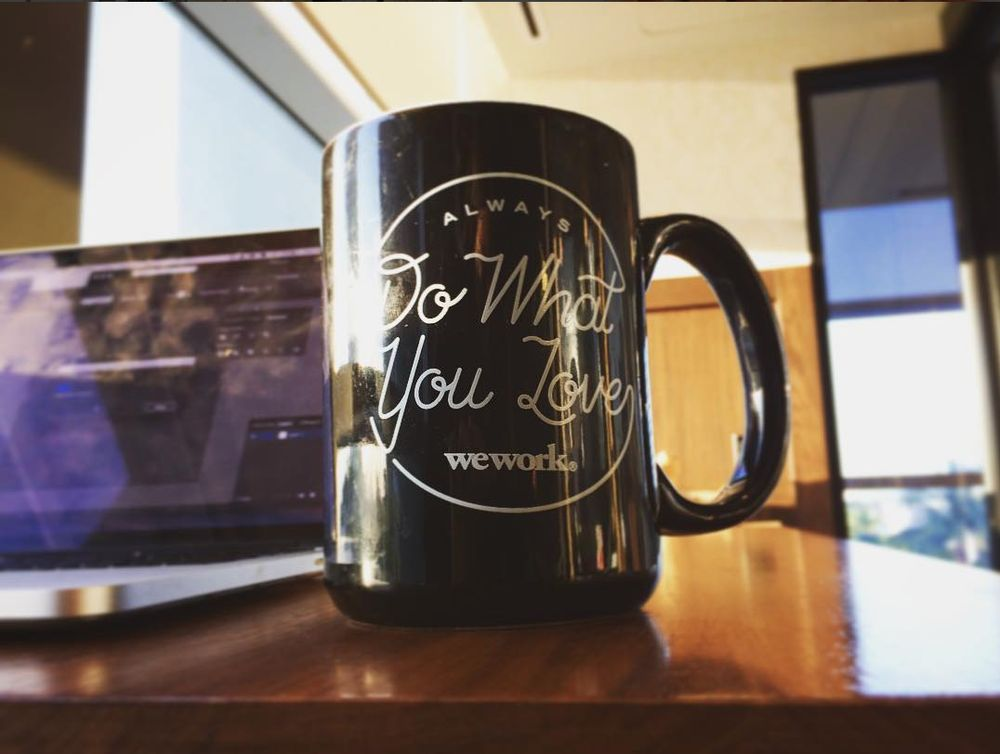wework: (440, 441, 569, 474)
